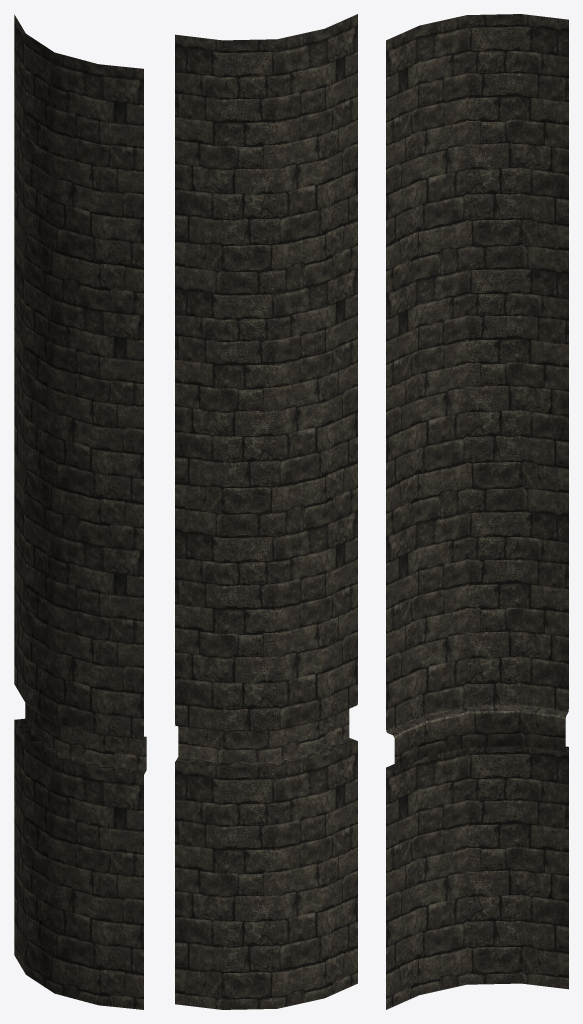
File: wallBlockICR.fbx
The picture shows the model from 3 angles, left to right: view 1: azimuth 90°, elevation 25°; view 2: azimuth 150°, elevation 25°; view 3: azimuth 330°, elevation 25°; orthographic projection. The views are drawn at different scales.
Visible parts, largest first — view 1: polySurface92; view 2: polySurface92; view 3: polySurface92.
Part boxes in pixels (x1,y1,x2,y2): polySurface92: (14,14,146,1009); polySurface92: (175,14,357,1009); polySurface92: (386,14,568,1009).
Size of the model in its own units: 1.02 by 8 by 1.02.
1 material, 1 textured.
